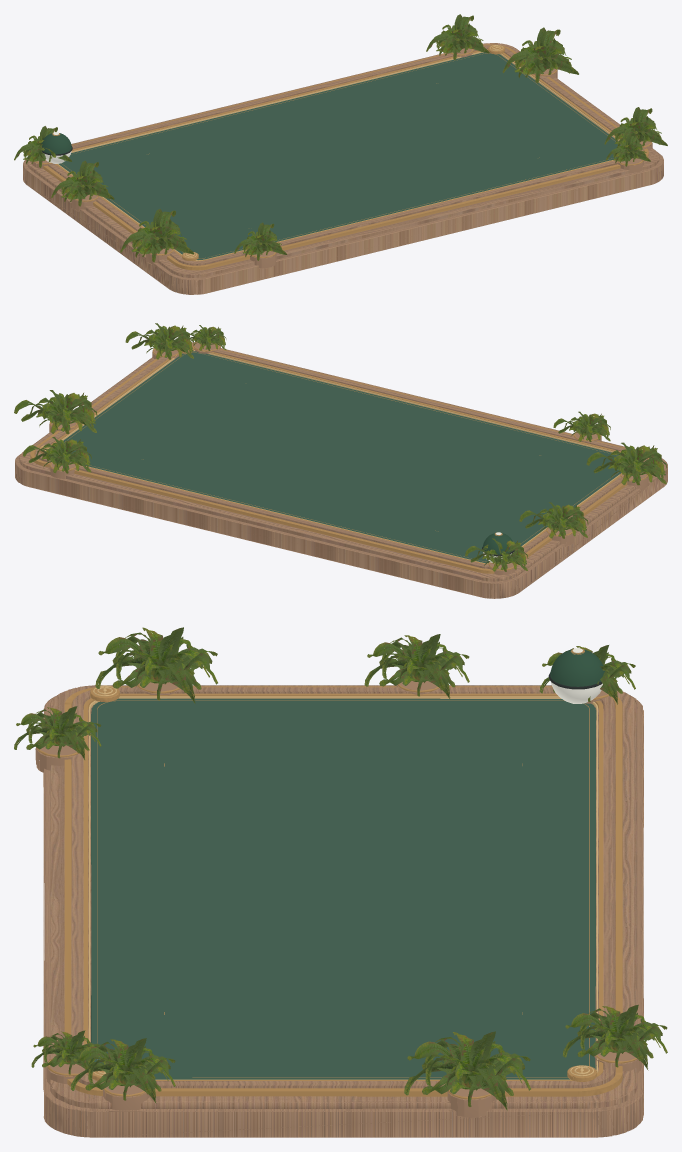
Rendered from grove_table.glb.
3 views of the same model, one above another, from view 1: azimuth 30°, elevation 25°; view 2: azimuth 150°, elevation 25°; view 3: azimuth 270°, elevation 25° (orthographic). The views are drawn at different scales.
Visible parts, largest first — view 1: Recessed woven playfield, Continuous table foundation, Fern border 00, Outer moulding, Fine rolled inner lip, Ceramic ball upper; view 2: Recessed woven playfield, Continuous table foundation, Fern border 00, Outer moulding, Fine rolled inner lip; view 3: Recessed woven playfield, Continuous table foundation, Fern border 00, Outer moulding, Fine rolled inner lip, Ceramic ball upper.
Part boxes in pixels (x1=…): Recessed woven playfield: x1=59, y1=52, x2=621, y2=259; Continuous table foundation: x1=23, y1=43, x2=663, y2=294; Fern border 00: x1=14, y1=14, x2=667, y2=262; Outer moulding: x1=34, y1=44, x2=651, y2=270; Fine rolled inner lip: x1=57, y1=45, x2=619, y2=260; Ceramic ball upper: x1=41, y1=133, x2=71, y2=154; Recessed woven playfield: x1=63, y1=351, x2=621, y2=563; Continuous table foundation: x1=15, y1=342, x2=667, y2=598; Fern border 00: x1=14, y1=323, x2=666, y2=571; Outer moulding: x1=30, y1=341, x2=649, y2=573; Fine rolled inner lip: x1=40, y1=350, x2=620, y2=563; Recessed woven playfield: x1=91, y1=698, x2=596, y2=1079; Continuous table foundation: x1=35, y1=681, x2=643, y2=1137; Fern border 00: x1=14, y1=627, x2=667, y2=1110; Outer moulding: x1=36, y1=648, x2=637, y2=1099; Fine rolled inner lip: x1=89, y1=685, x2=597, y2=1079; Ceramic ball upper: x1=550, y1=649, x2=604, y2=686.
Bounding box in the file's own units: 25.79 × 2.7 × 15.35.
8 materials, 2 textured.
